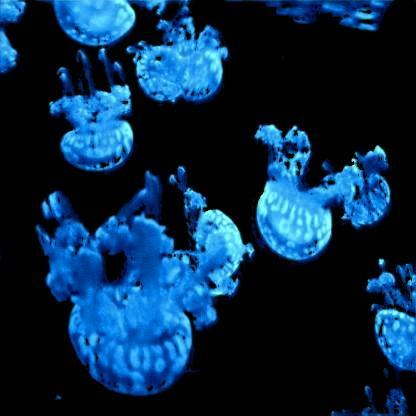LightHouse: (42, 192, 224, 397), (253, 129, 347, 261), (49, 53, 135, 170), (166, 168, 242, 288), (369, 260, 415, 372), (330, 150, 394, 228), (168, 24, 229, 100), (128, 22, 184, 104), (53, 2, 133, 46), (335, 368, 405, 414), (2, 1, 28, 79)
